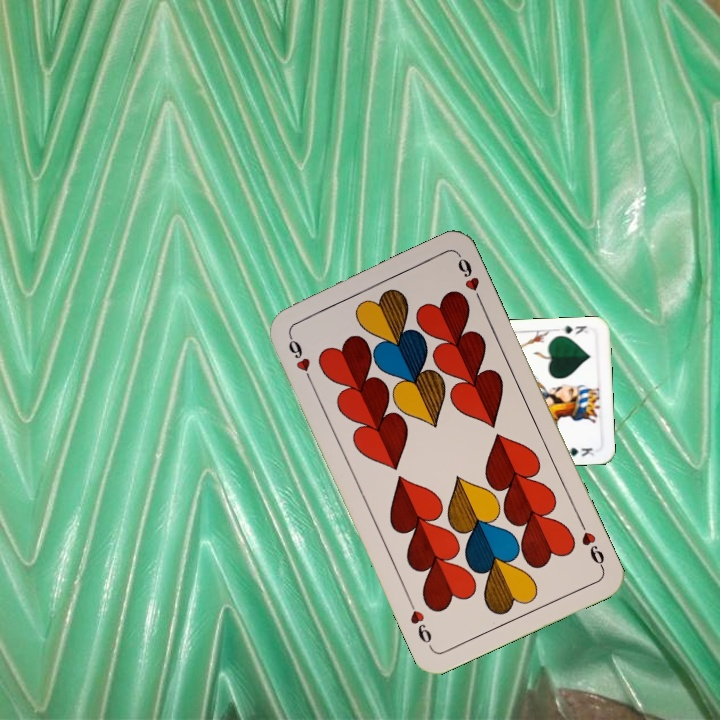GK: (554, 322, 590, 337)
H9: (575, 516, 607, 572), (284, 330, 315, 387)
